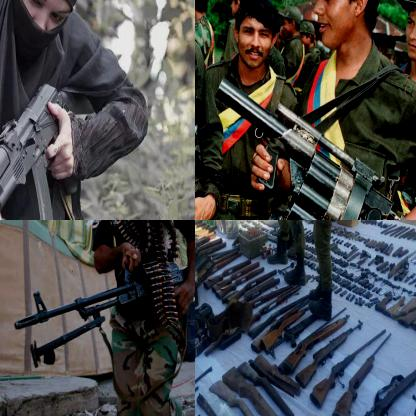rifle: (210, 76, 405, 219), (12, 258, 194, 372), (0, 83, 72, 219), (308, 329, 386, 411), (332, 333, 394, 415), (294, 322, 364, 392), (282, 316, 348, 375), (354, 356, 415, 415), (244, 292, 312, 341), (244, 289, 298, 334), (268, 315, 320, 360), (260, 306, 310, 350), (222, 275, 275, 309), (240, 282, 291, 313)
